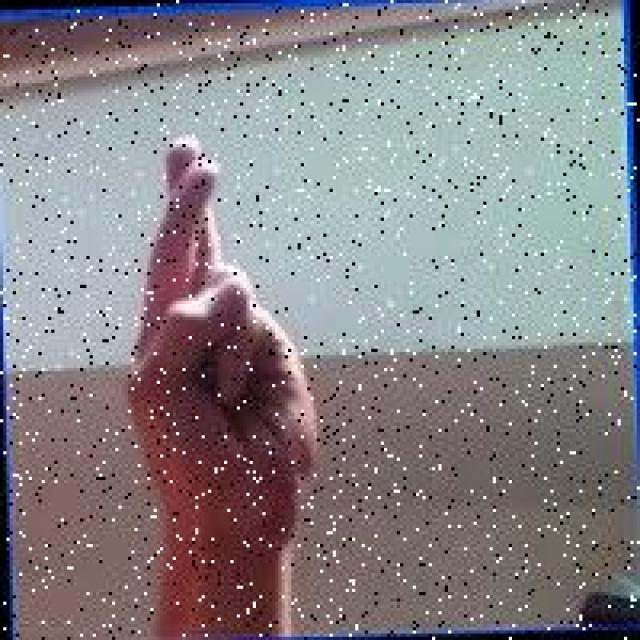R: (109, 125, 323, 550)
